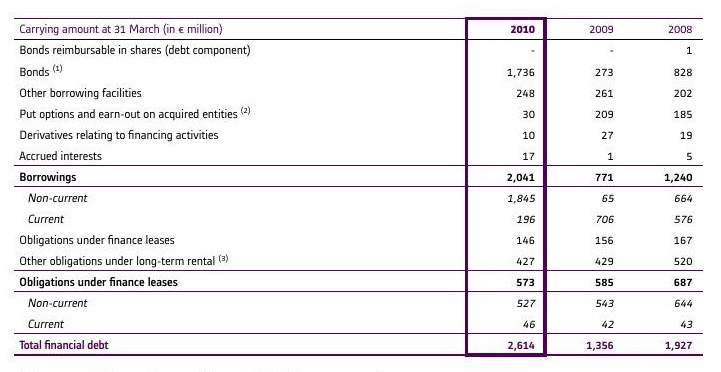table: (0, 0, 721, 372)
